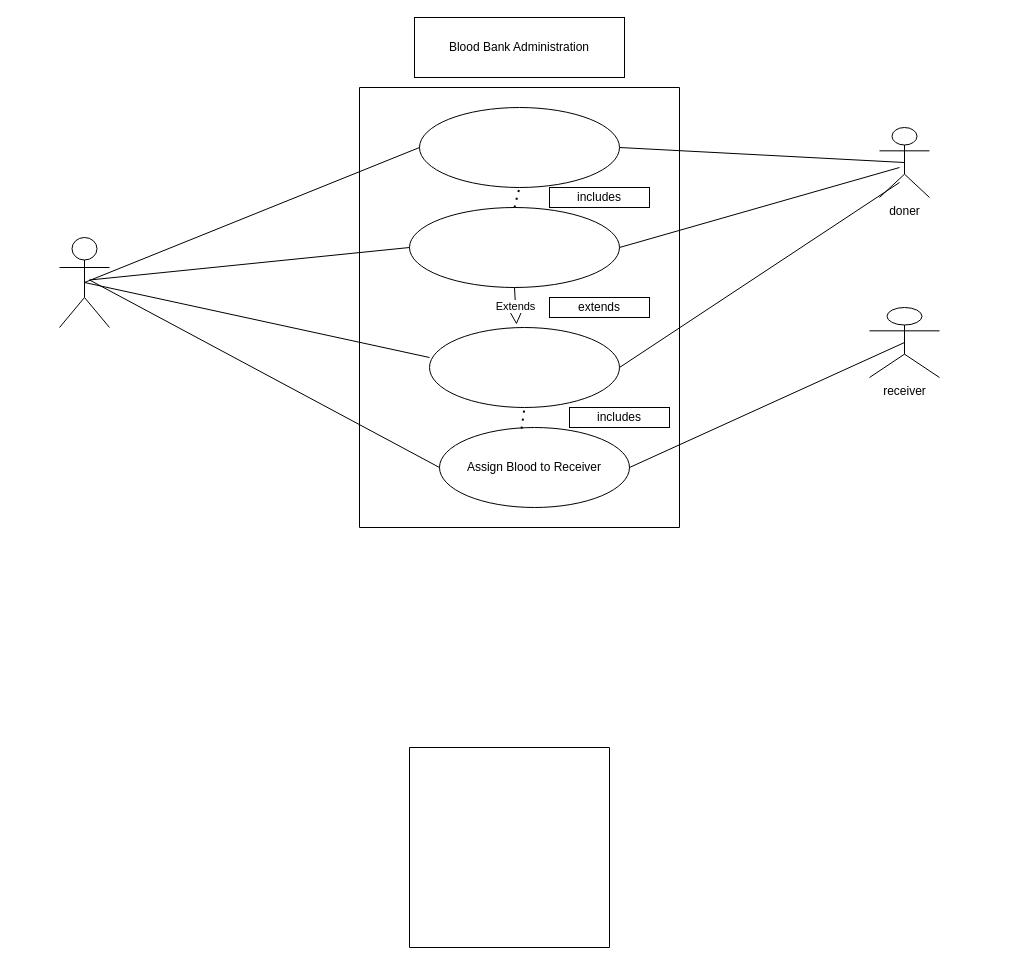
The diagram is 1013 pixels wide and 965 high, and some of its shapes have lost their labels. The shapes that lost their labels are listed below. From the top down, each one's centre as x and y in pixels, then its label:
point 519,147: Add Blood Donor Information
point 514,247: Approve Blood Donation
point 84,282: Blood Bank Administrator
point 524,367: Manage Blood Inventory
